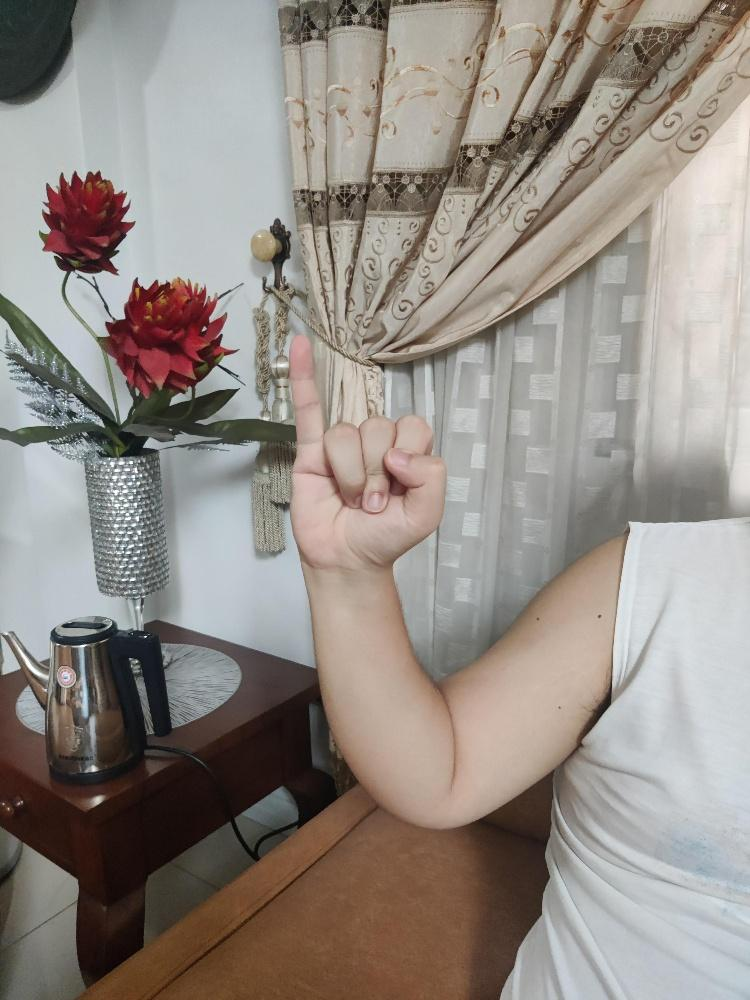i: (286, 331, 449, 571)
